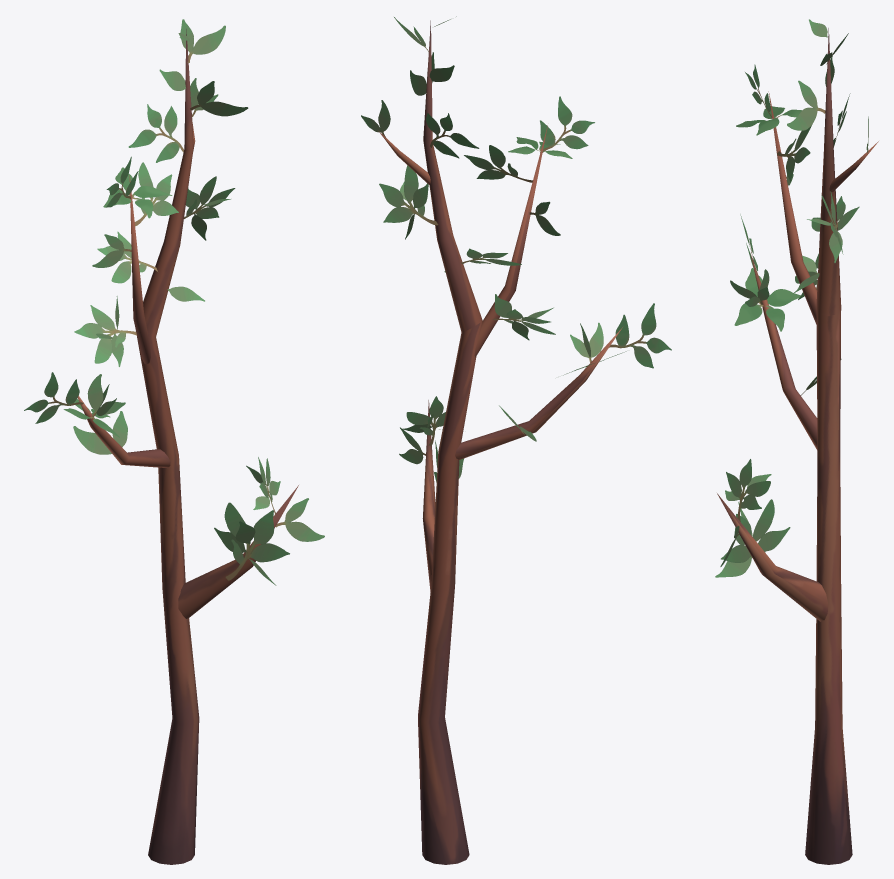
Rendered from Minitree_03.fbx.
3 renders of one model, left to right at view 1: azimuth 30°, elevation 25°; view 2: azimuth 150°, elevation 25°; view 3: azimuth 270°, elevation 25°, orthographic.
Visible parts, largest first — view 1: Minitree_03, Minitree_leaf_03; view 2: Minitree_03, Minitree_leaf_03; view 3: Minitree_03, Minitree_leaf_03.
Part boxes in pixels (left/top/right/bottom): Minitree_03: left=77, top=29, right=298, bottom=864; Minitree_leaf_03: left=24, top=19, right=324, bottom=585; Minitree_03: left=378, top=20, right=622, bottom=864; Minitree_leaf_03: left=361, top=16, right=671, bottom=482; Minitree_03: left=717, top=28, right=878, bottom=864; Minitree_leaf_03: left=715, top=19, right=868, bottom=577.
Size of the model in its own units: 61.19 by 163 by 30.46.
